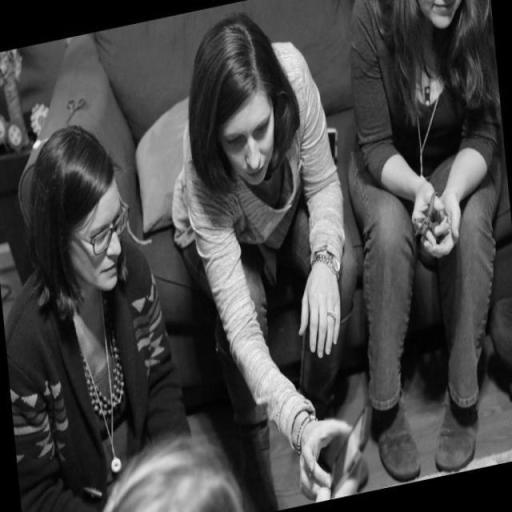phone: (332, 405, 372, 490)
